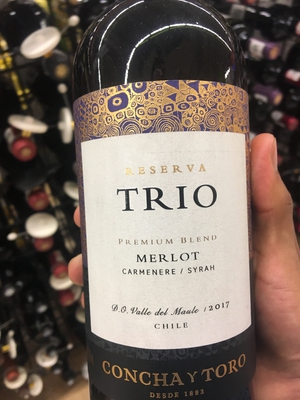trio merlot: (74, 24, 263, 398)
